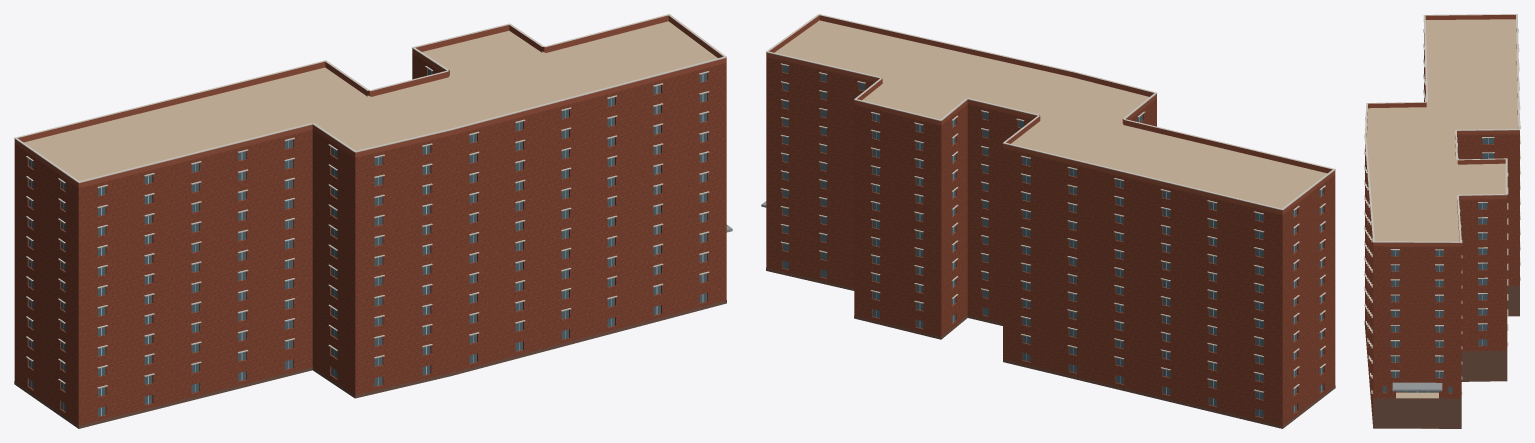
The picture shows the model from 3 angles, left to right: view 1: azimuth 30°, elevation 25°; view 2: azimuth 150°, elevation 25°; view 3: azimuth 270°, elevation 25°; orthographic projection. The views are drawn at different scales.
Visible parts, largest first — view 1: areumwon__wall, areumwon__roof, areumwon__glass, areumwon__parapet, areumwon__trim, areumwon__base, areumwon__frame; view 2: areumwon__wall, areumwon__roof, areumwon__glass, areumwon__parapet, areumwon__trim, areumwon__base, areumwon__frame; view 3: areumwon__wall, areumwon__roof, areumwon__base, areumwon__trim, areumwon__glass, areumwon__parapet, areumwon__canopy, areumwon__frame.
Boxes of the visible parts, x1,y1,x2,y2 form: areumwon__wall: (14,53,726,428); areumwon__roof: (24,21,717,181); areumwon__glass: (29,69,706,416); areumwon__parapet: (14,15,726,187); areumwon__trim: (14,14,726,388); areumwon__base: (14,300,726,428); areumwon__frame: (31,71,703,415); areumwon__wall: (766,57,1335,428); areumwon__roof: (774,20,1327,208); areumwon__glass: (782,65,1323,417); areumwon__parapet: (766,15,1335,214); areumwon__trim: (766,14,1335,392); areumwon__base: (766,268,1335,428); areumwon__frame: (876,114,1321,416); areumwon__wall: (1365,33,1519,425); areumwon__roof: (1366,19,1517,428); areumwon__base: (1364,286,1519,428); areumwon__trim: (1364,14,1520,394); areumwon__glass: (1382,138,1493,392); areumwon__parapet: (1366,15,1519,246); areumwon__canopy: (1392,382,1442,391); areumwon__frame: (1395,138,1488,392).
Size of the model in its own units: 103 by 38.12 by 29.03.
9 materials, 1 textured.
